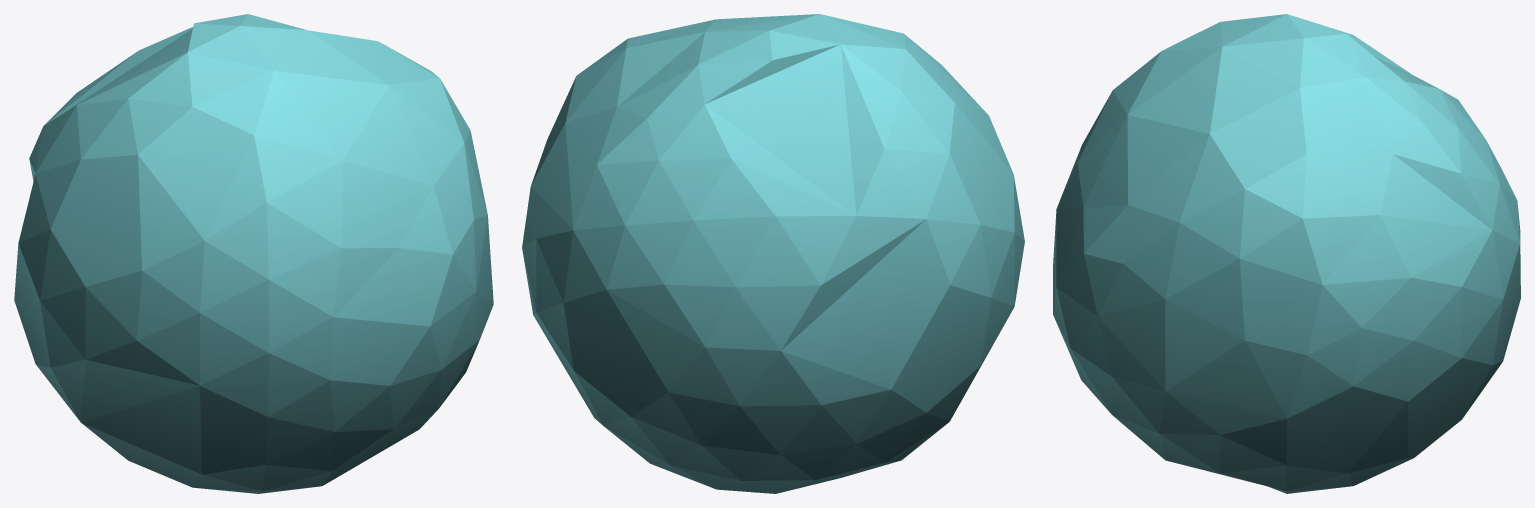
Rendered from Planet_5.fbx.
The picture shows the model from 3 angles, left to right: view 1: azimuth 30°, elevation 25°; view 2: azimuth 150°, elevation 25°; view 3: azimuth 270°, elevation 25°; orthographic projection. The views are drawn at different scales.
Visible parts, largest first — view 1: Planet_5; view 2: Planet_5; view 3: Planet_5.
Part boxes in pixels (x1,y1,x2,y2): Planet_5: [14, 14, 493, 493]; Planet_5: [522, 14, 1024, 493]; Planet_5: [1053, 14, 1520, 493].
Size of the model in its own units: 408 by 405 by 397.
Materials: 1 (1 with a texture image).
